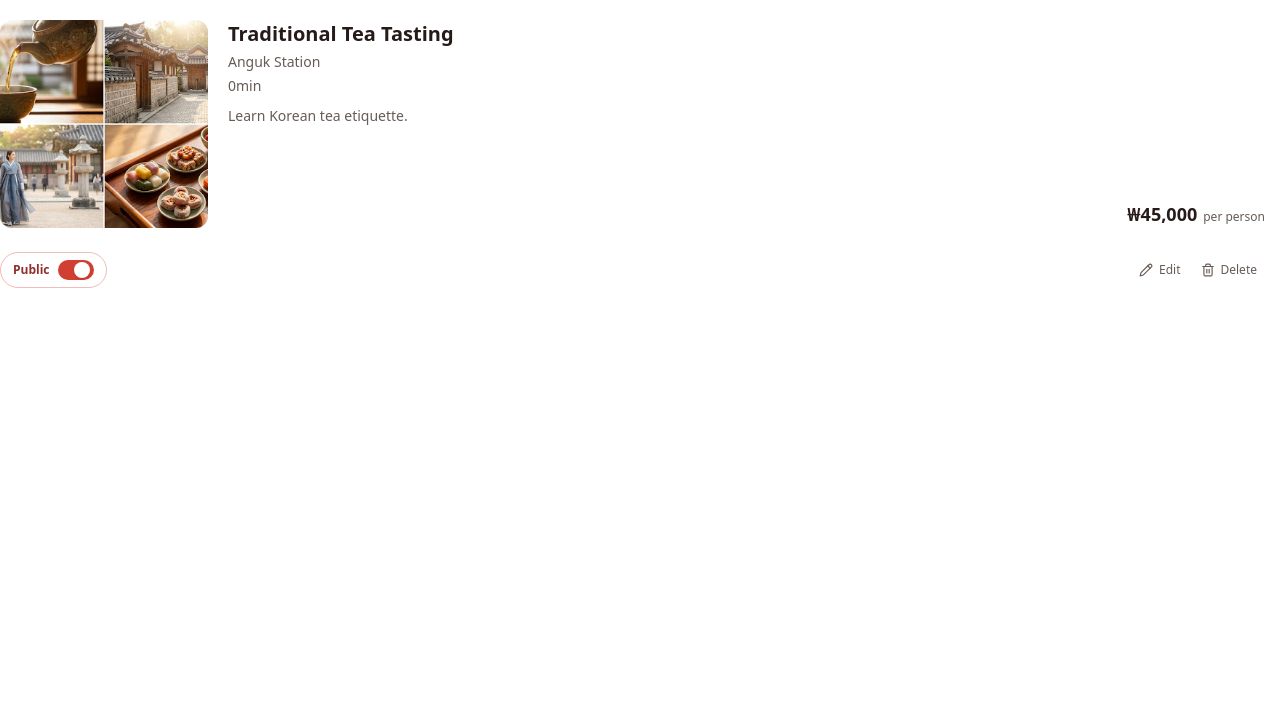
Scenario: MyActivitiesContent › keeps the activity list visible when deletion fails
Click the button with aria-label "Delete Traditional Tea Tasting" at {"x": 1229, "y": 270}, box [1192,248,1265,292]
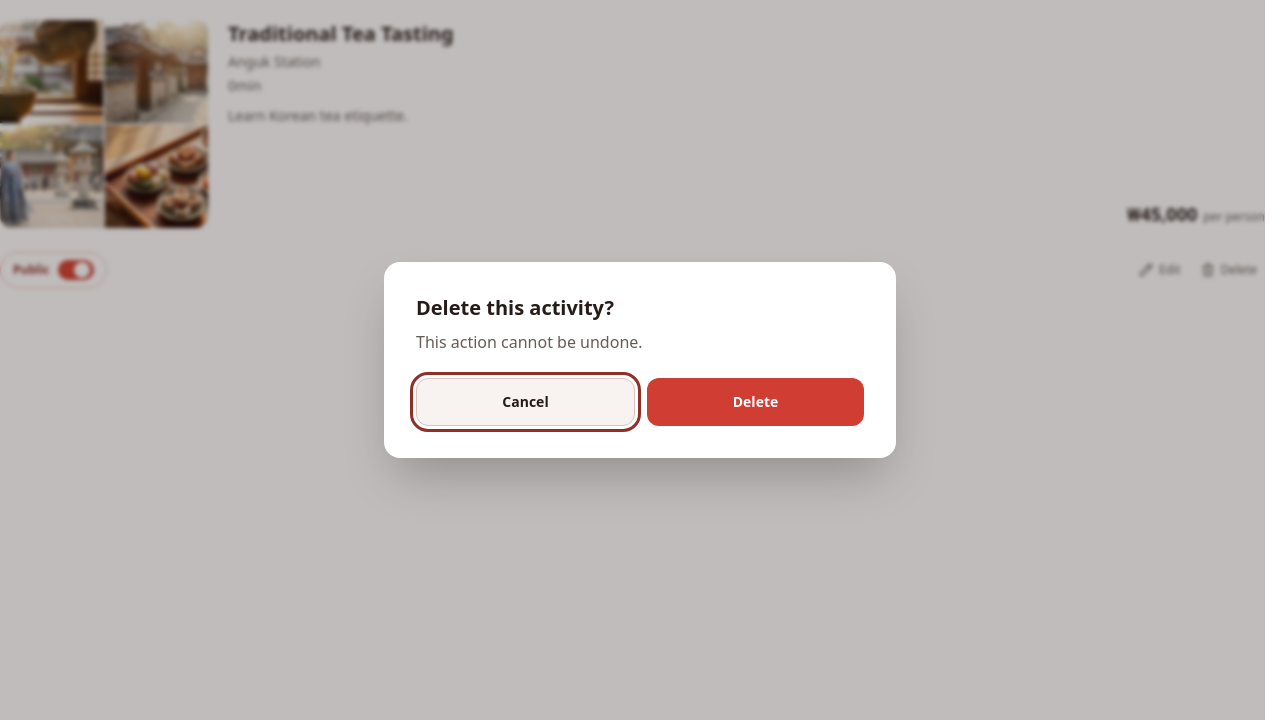
Click the button "Delete" at {"x": 756, "y": 402}, box [647,378,864,426]
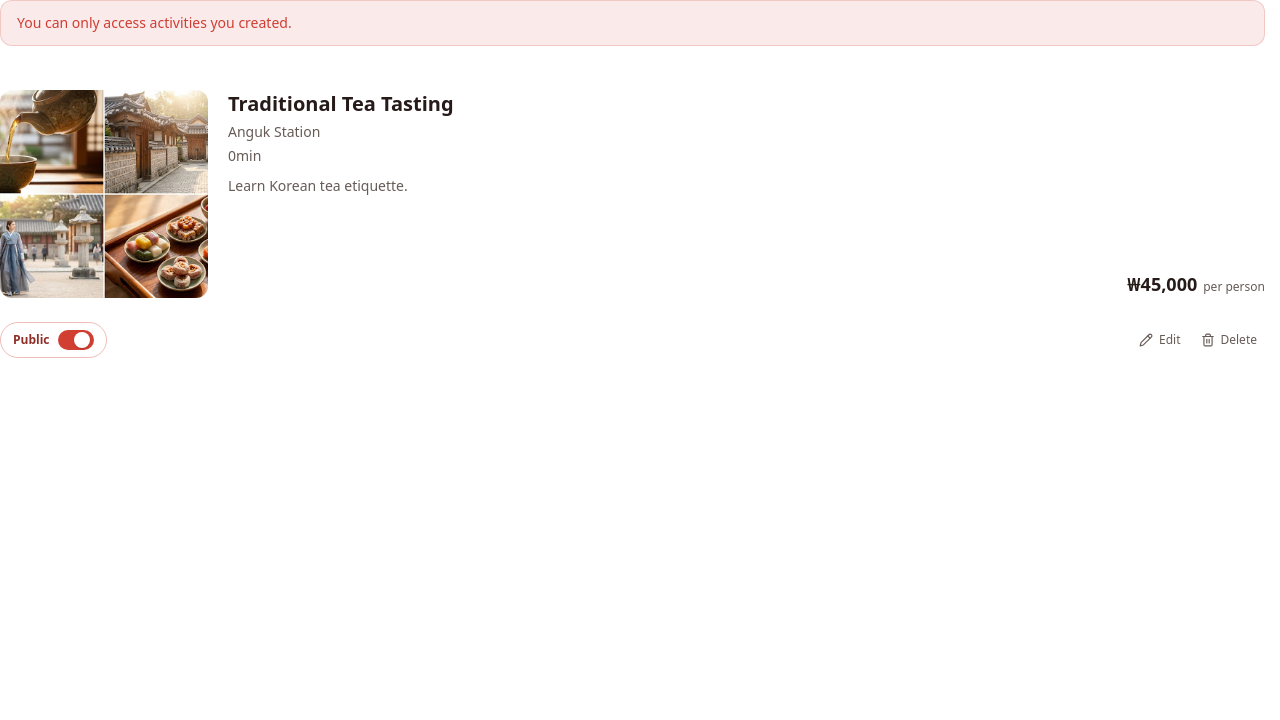
Expected: the heading "Traditional Tea Tasting" is shown, [228,90,454,117]
Expected: the message reads "You can only access activities you created.", [17,13,292,32]
